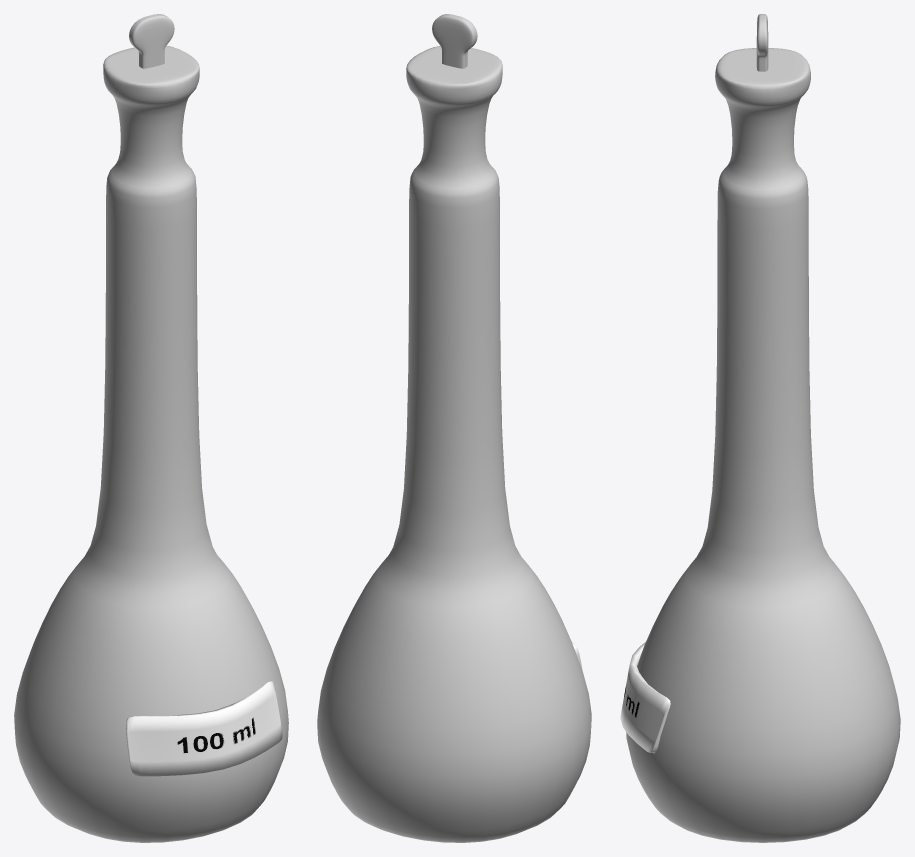
The model's file is Labu takar 100ml.fbx.
3 renders of one model, left to right at view 1: azimuth 30°, elevation 25°; view 2: azimuth 150°, elevation 25°; view 3: azimuth 270°, elevation 25°, orthographic.
Parts seen in each view (by area): view 1: Cube.060, Cube.105; view 2: Cube.060; view 3: Cube.060, Cube.105.
Boxes of the visible parts, x1,y1,x2,y2 form: Cube.060: [14, 14, 288, 842]; Cube.105: [125, 681, 282, 776]; Cube.060: [317, 14, 591, 842]; Cube.060: [626, 14, 900, 842]; Cube.105: [620, 642, 670, 753].
Size of the model in its own units: 4.13 by 13.02 by 4.2.
2 materials, 1 textured.
